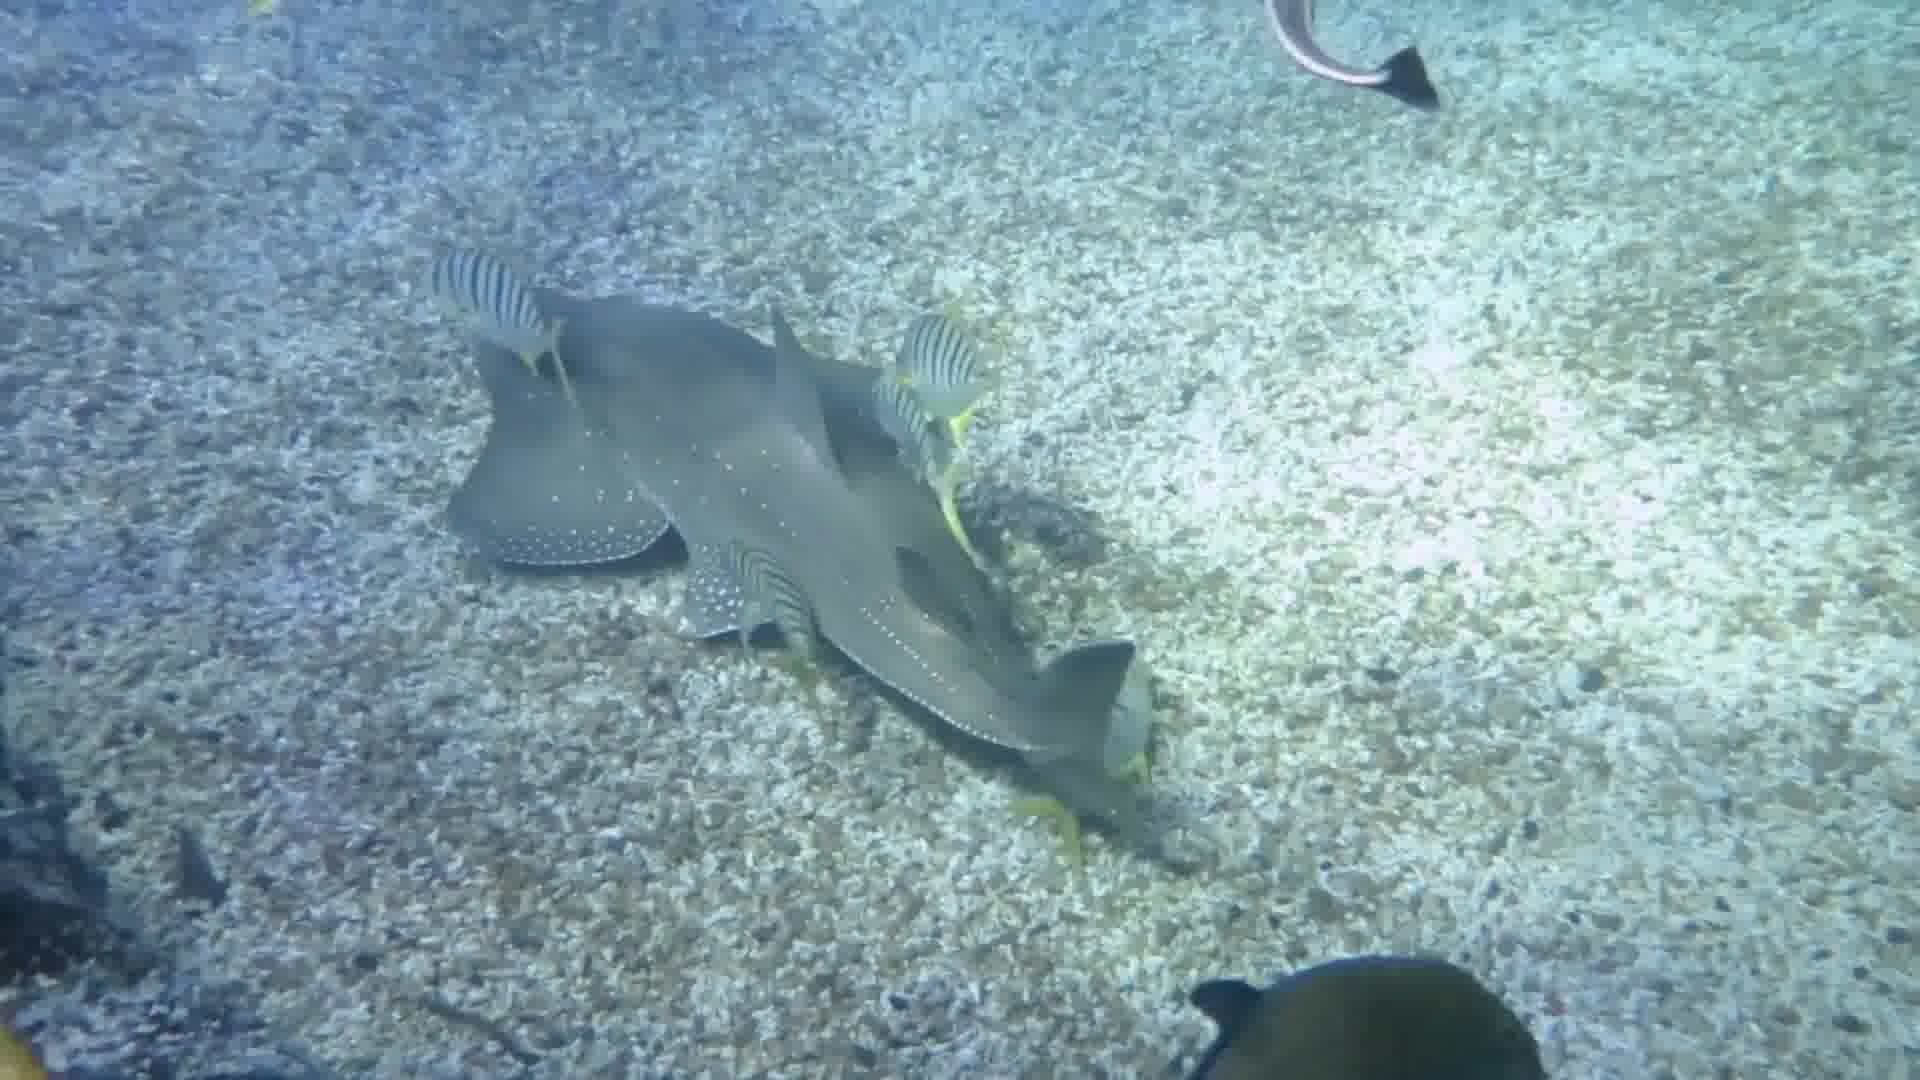Rhychobatus djiddensis: (306, 245, 1338, 808)
